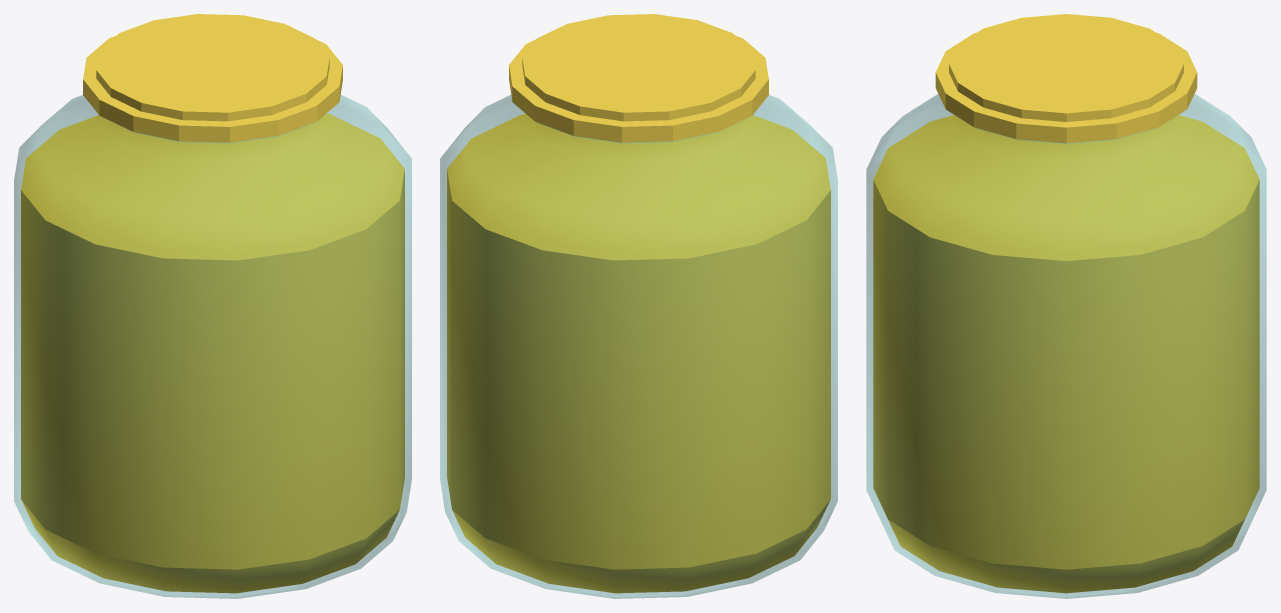
The model's file is banka.fbx.
3 renders of one model, left to right at view 1: azimuth 30°, elevation 25°; view 2: azimuth 150°, elevation 25°; view 3: azimuth 270°, elevation 25°, orthographic.
Visible parts, largest first — view 1: BankaBase, Fill, Cap, FillBottom; view 2: BankaBase, Fill, Cap, FillBottom; view 3: BankaBase, Fill, Cap, FillBottom.
Part boxes in pixels (x1,y1,x2,y2): BankaBase: [14, 95, 411, 598]; Fill: [21, 113, 404, 569]; Cap: [83, 14, 342, 142]; FillBottom: [21, 500, 399, 593]; BankaBase: [440, 95, 837, 598]; Fill: [447, 113, 830, 569]; Cap: [509, 14, 768, 142]; FillBottom: [452, 500, 830, 593]; BankaBase: [866, 94, 1266, 598]; Fill: [873, 115, 1259, 569]; Cap: [935, 14, 1197, 143]; FillBottom: [878, 499, 1254, 593].
Bounding box in the file's own units: 2 × 2.58 × 2.
